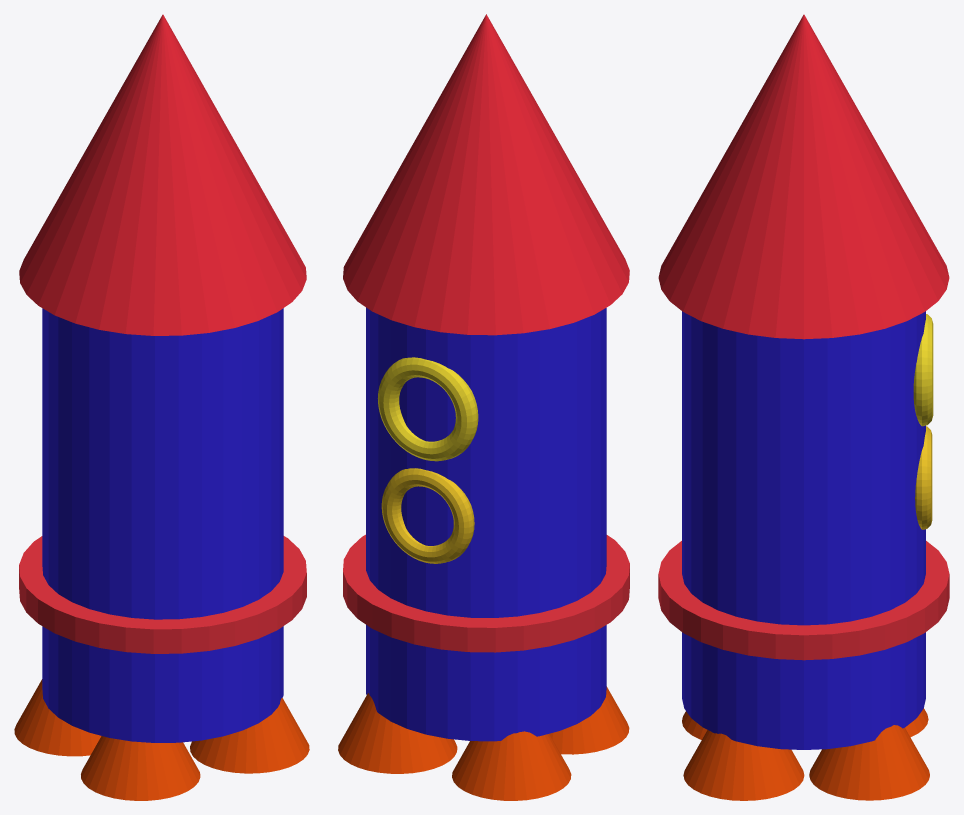
The model's file is Rocket Ship.fbx.
3 views of the same model, side by side, from view 1: azimuth 30°, elevation 25°; view 2: azimuth 150°, elevation 25°; view 3: azimuth 270°, elevation 25° (orthographic).
Visible parts, largest first — view 1: Cylinder, Cone, Cylinder.001, Cone.001, Cone.002, Cone.004; view 2: Cylinder, Cone, Cylinder.001, Cone.004, Torus.001, Cone.003, Torus, Cone.001; view 3: Cylinder, Cone, Cylinder.001, Cone.003, Cone.002, Torus.001, Torus.
Part boxes in pixels (x1=…): Cylinder: x1=42, y1=308, x2=283, y2=742; Cone: x1=19, y1=14, x2=306, y2=335; Cylinder.001: x1=19, y1=536, x2=306, y2=653; Cone.001: x1=81, y1=736, x2=200, y2=800; Cone.002: x1=190, y1=698, x2=309, y2=773; Cone.004: x1=14, y1=679, x2=101, y2=756; Cylinder: x1=366, y1=307, x2=606, y2=741; Cone: x1=343, y1=14, x2=629, y2=335; Cylinder.001: x1=343, y1=534, x2=629, y2=652; Cone.004: x1=452, y1=731, x2=571, y2=800; Torus.001: x1=377, y1=357, x2=478, y2=461; Cone.003: x1=338, y1=693, x2=457, y2=773; Torus: x1=381, y1=468, x2=474, y2=563; Cone.001: x1=549, y1=686, x2=629, y2=754; Cylinder: x1=682, y1=311, x2=925, y2=749; Cone: x1=658, y1=14, x2=949, y2=339; Cylinder.001: x1=658, y1=541, x2=949, y2=660; Cone.003: x1=809, y1=725, x2=929, y2=800; Cone.002: x1=683, y1=730, x2=804, y2=800; Torus.001: x1=913, y1=314, x2=933, y2=426; Torus: x1=915, y1=426, x2=932, y2=529.
Bounding box in the file's own units: 239 × 663 × 239.
